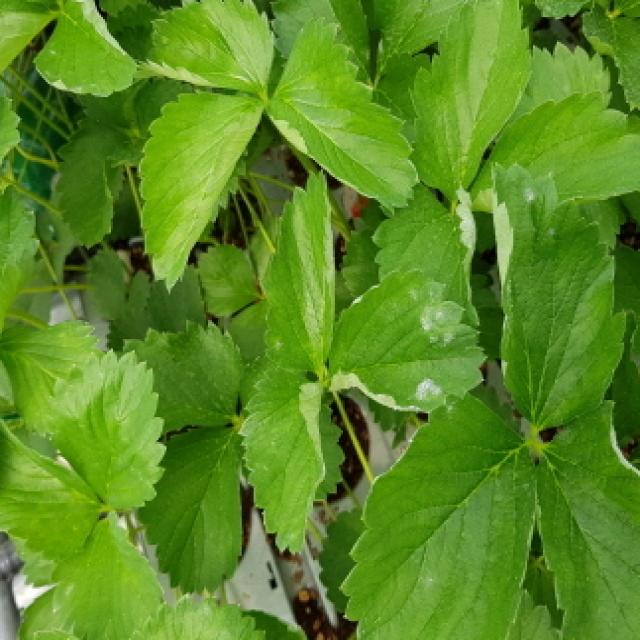Powdery Mildew Leaf: (336, 390, 538, 640), (491, 159, 628, 428), (534, 399, 640, 640), (326, 269, 489, 413), (369, 182, 482, 331), (260, 167, 337, 378), (33, 0, 138, 98)
